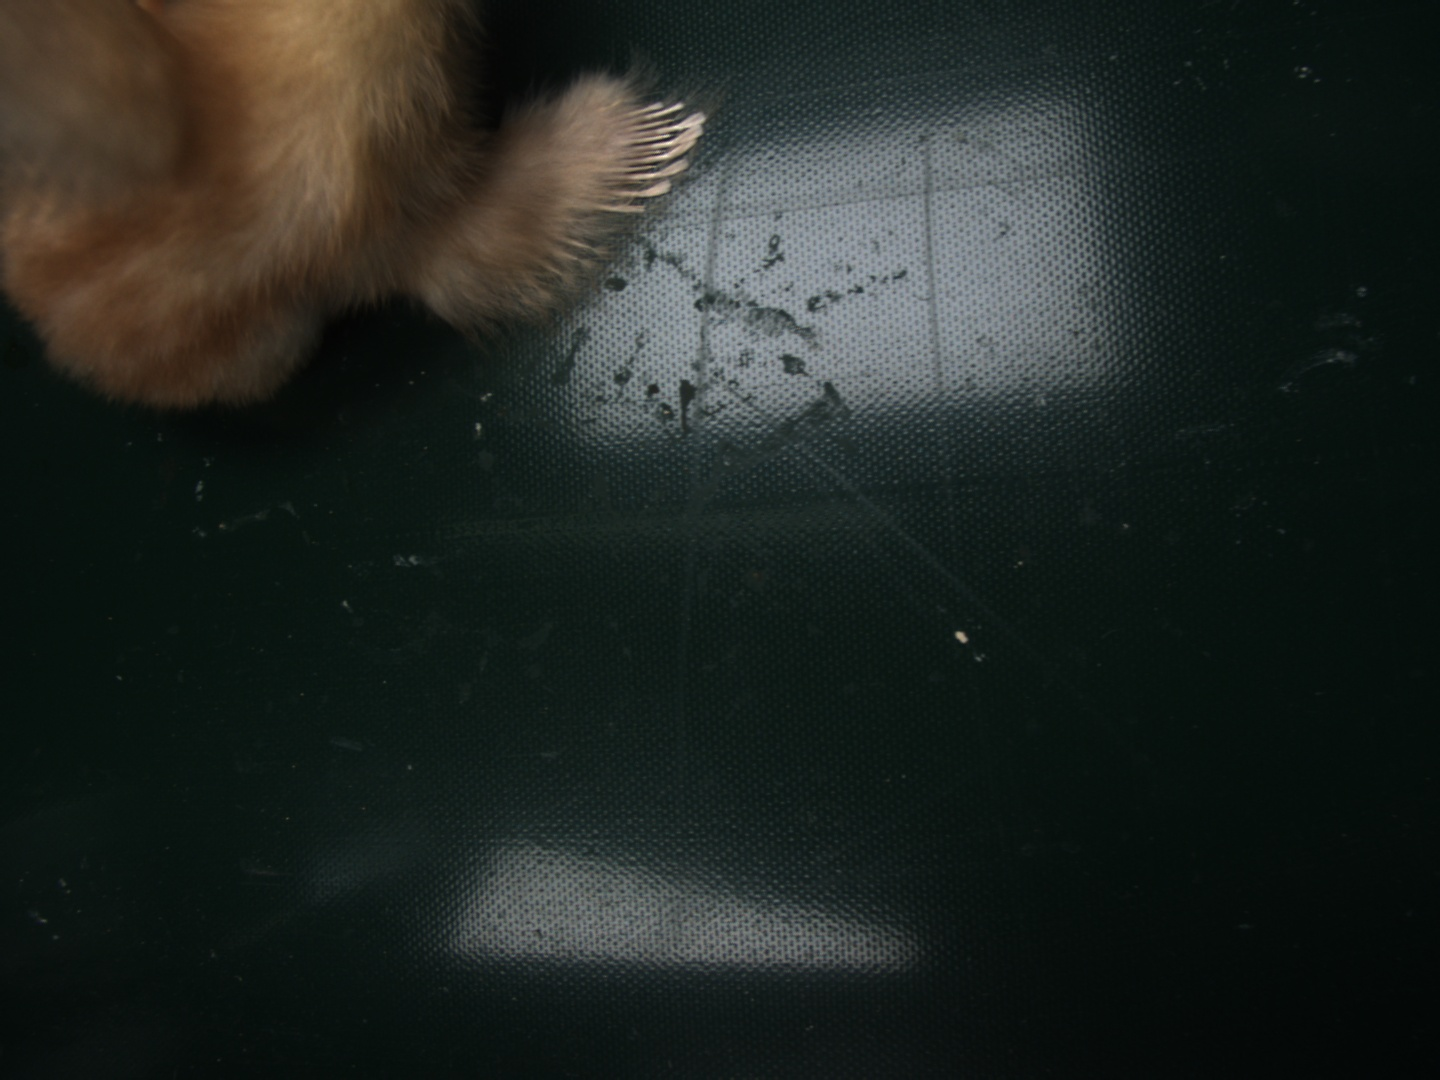female: (595, 100, 704, 217)
